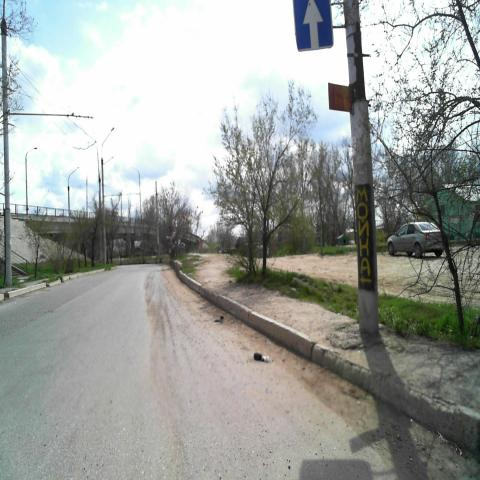5_5: (292, 0, 334, 50)
